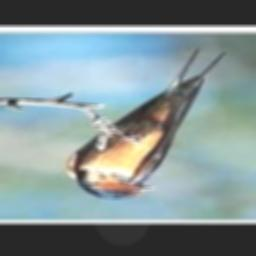Swallow: (65, 49, 227, 200)
